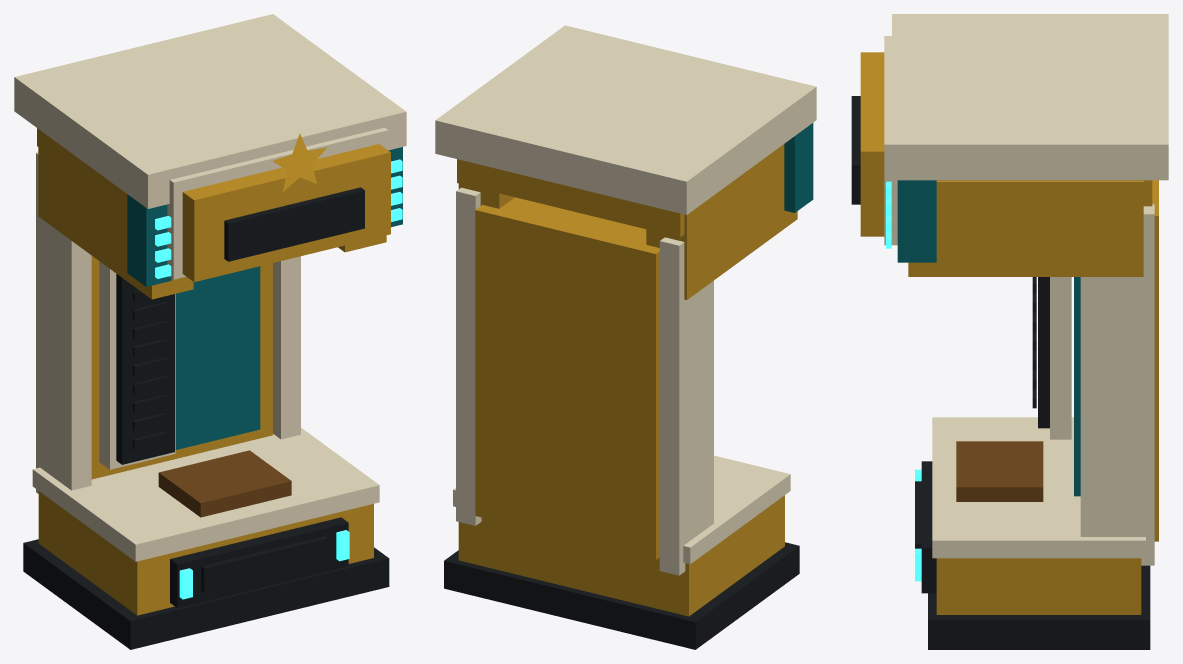
3 views of the same model, side by side, from view 1: azimuth 30°, elevation 25°; view 2: azimuth 150°, elevation 25°; view 3: azimuth 270°, elevation 25° (orthographic). The views are drawn at different scales.
Visible parts, largest first — view 1: punch_head_cream, punch_base_trim, punch_outer_trim_l, punch_inner, punch_marquee_face, punch_base_foot, punch_base, punch_head_cheek_l, punch_score_housing, punch_marquee_screen, punch_platform, punch_rear (+7 smaller); view 2: punch_rear, punch_head_cream, punch_base, punch_outer_trim_l, punch_base_foot, punch_head_cheek_l, punch_outer_trim_r, punch_head_top, punch_base_trim, punch_cyan_left; view 3: punch_head_cream, punch_outer_trim_r, punch_head_cheek_r, punch_base_trim, punch_base, punch_base_foot, punch_platform, punch_marquee_face, punch_score_trim, punch_cyan_right, punch_rear, punch_score_housing (+6 smaller).
Part boxes in pixels (x1,y1,x2,y2): punch_head_cream: [14, 14, 406, 208]; punch_base_trim: [32, 428, 379, 561]; punch_outer_trim_l: [36, 152, 91, 493]; punch_inner: [175, 266, 260, 449]; punch_marquee_face: [182, 144, 390, 282]; punch_base_foot: [23, 539, 389, 649]; punch_base: [38, 491, 373, 615]; punch_head_cheek_l: [38, 129, 193, 299]; punch_score_housing: [116, 274, 174, 464]; punch_marquee_screen: [224, 187, 364, 261]; punch_platform: [158, 450, 291, 517]; punch_rear: [91, 256, 272, 479]; punch_rear: [475, 197, 659, 559]; punch_head_cream: [435, 25, 816, 214]; punch_base: [458, 495, 784, 616]; punch_outer_trim_l: [659, 237, 713, 575]; punch_base_foot: [444, 542, 799, 649]; punch_head_cheek_l: [646, 144, 797, 299]; punch_outer_trim_r: [456, 187, 481, 525]; punch_head_top: [457, 159, 684, 237]; punch_base_trim: [453, 455, 790, 564]; punch_cyan_left: [784, 123, 813, 212]; punch_head_cream: [892, 14, 1168, 180]; punch_outer_trim_r: [1080, 204, 1154, 565]; punch_head_cheek_r: [908, 180, 1143, 276]; punch_base_trim: [932, 417, 1145, 558]; punch_base: [936, 558, 1141, 614]; punch_base_foot: [928, 565, 1150, 649]; punch_platform: [956, 441, 1043, 501]; punch_marquee_face: [860, 52, 884, 236]; punch_score_trim: [1050, 277, 1071, 439]; punch_cyan_right: [897, 180, 936, 262]; punch_rear: [1152, 180, 1158, 541]; punch_score_housing: [1038, 277, 1049, 428].
Size of the model in its own units: 2.13 by 4.05 by 2.23.
